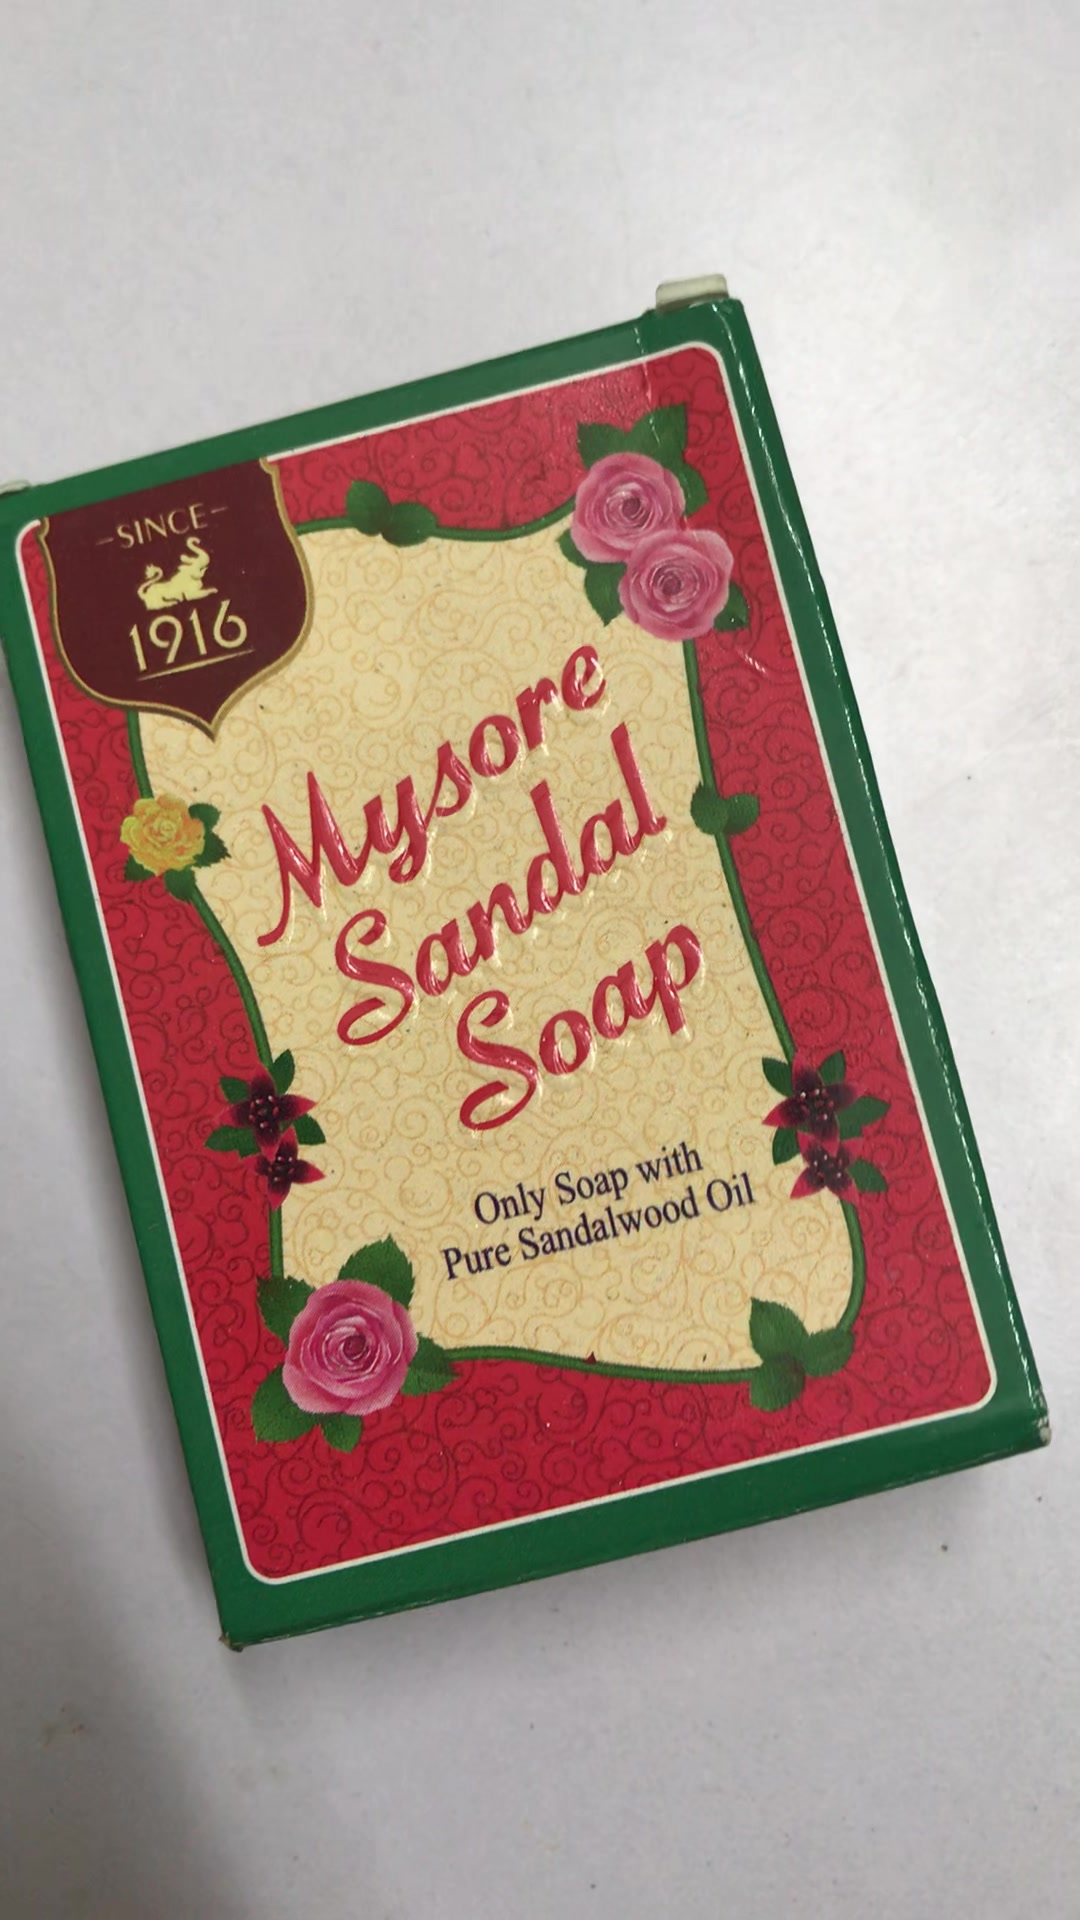mysore sandal soap: (3, 276, 1055, 1656)
